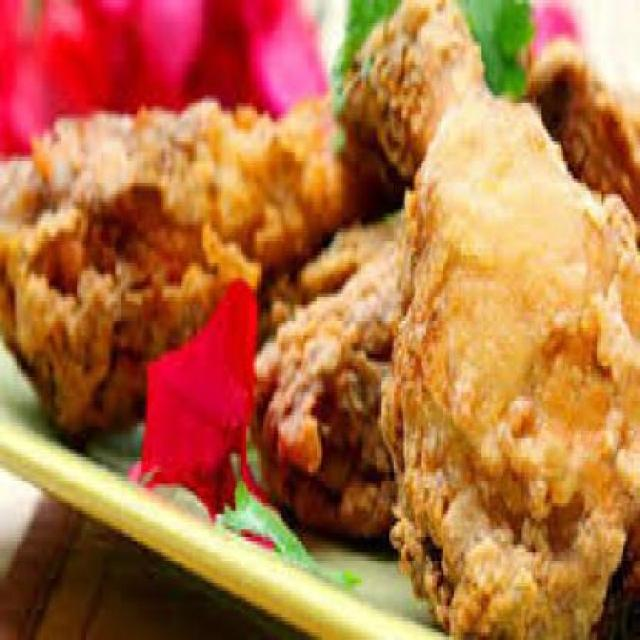Frango: (0, 14, 638, 636)
